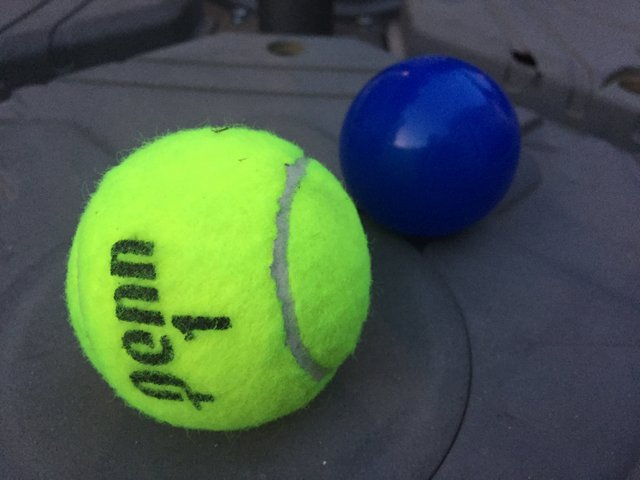Ball: (340, 57, 521, 239)
